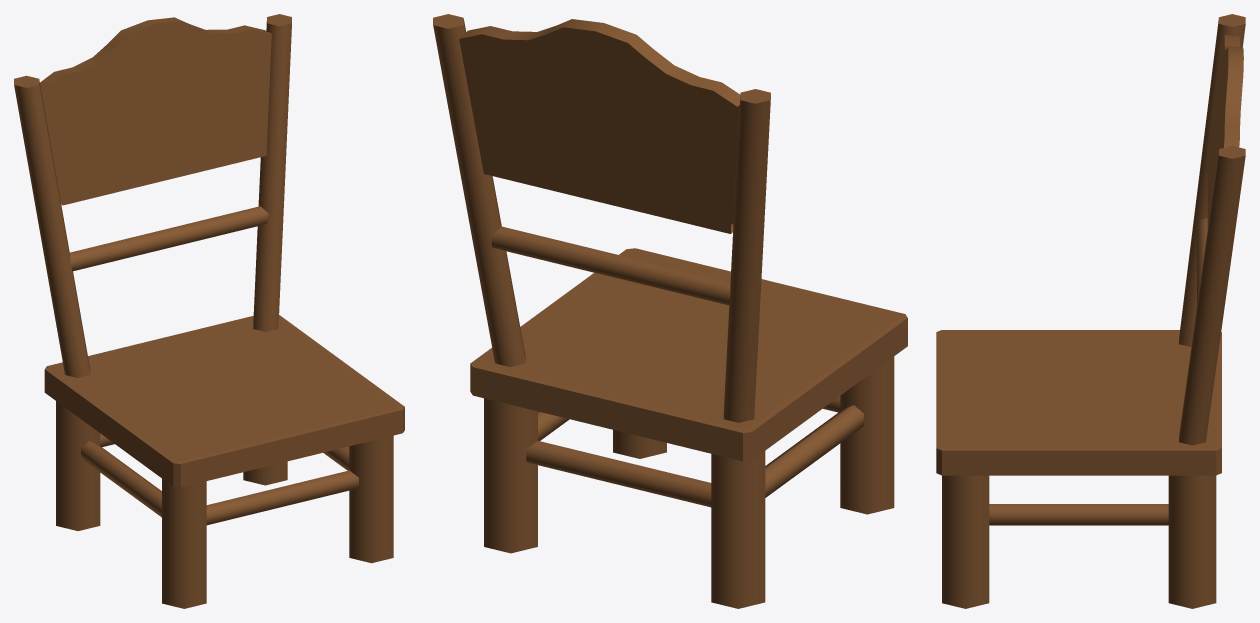
Rendered from chair.fbx.
3 views of the same model, side by side, from view 1: azimuth 30°, elevation 25°; view 2: azimuth 150°, elevation 25°; view 3: azimuth 270°, elevation 25° (orthographic). The views are drawn at different scales.
Visible parts, largest first — view 1: chair; view 2: chair; view 3: chair.
Part boxes in pixels (bbox=[...]): chair: bbox=[14, 14, 404, 608]; chair: bbox=[433, 14, 907, 608]; chair: bbox=[936, 14, 1245, 608].
Size of the model in its own units: 97.92 by 155 by 88.41.
Materials: 1 (1 with a texture image).
